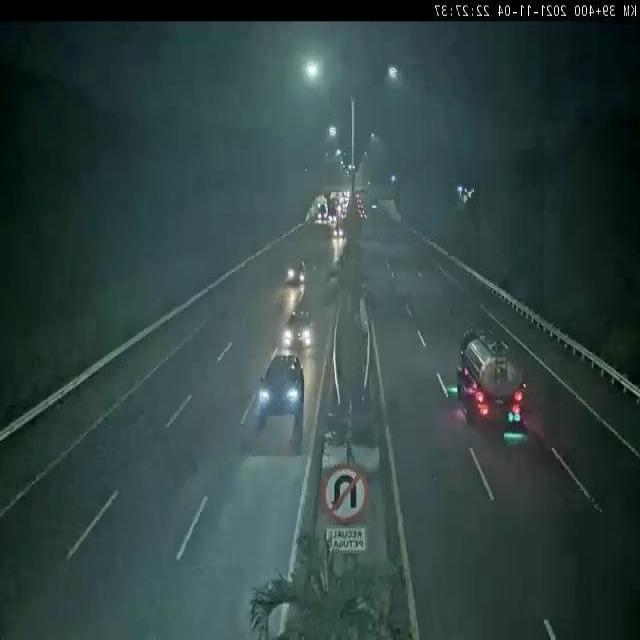Car: (259, 353, 305, 424), (282, 314, 316, 353), (282, 261, 312, 287)
Truck: (455, 328, 527, 439)
